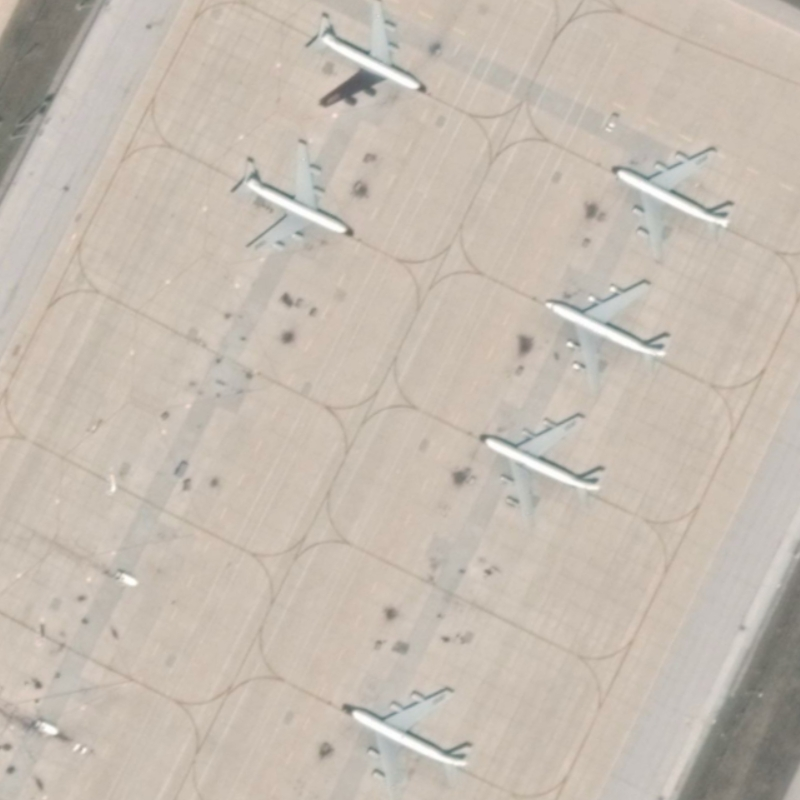A11: (223, 132, 363, 275), (600, 138, 740, 267), (537, 275, 676, 403), (471, 407, 612, 533), (336, 681, 479, 800), (304, 3, 432, 115)
